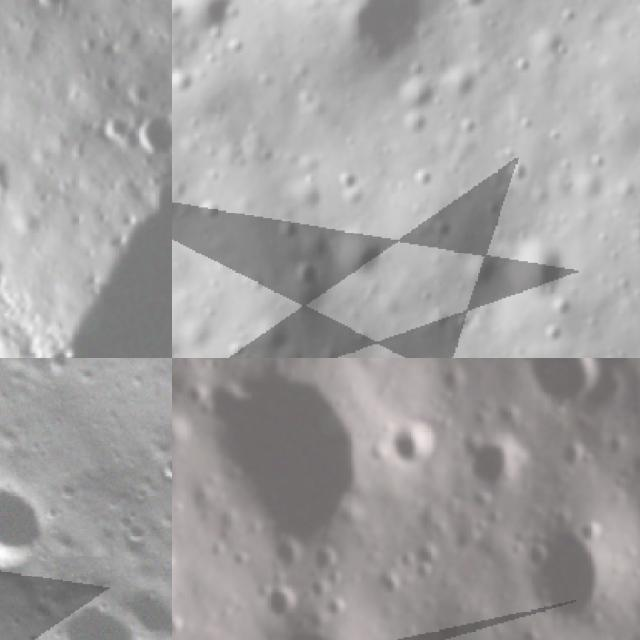crater: (188, 360, 370, 556), (0, 448, 81, 603), (17, 578, 166, 640), (526, 516, 611, 624), (330, 0, 434, 79), (491, 235, 571, 315), (103, 555, 172, 640), (521, 358, 609, 417), (327, 224, 392, 282), (474, 430, 520, 487), (129, 102, 172, 161), (394, 422, 443, 472), (172, 0, 240, 28), (92, 107, 136, 146), (143, 440, 172, 497), (18, 0, 84, 24), (119, 73, 159, 111), (398, 100, 434, 140), (172, 65, 211, 99), (0, 144, 22, 201), (189, 193, 223, 228), (498, 154, 534, 182), (450, 0, 496, 21), (270, 213, 302, 242), (555, 0, 584, 29), (460, 109, 486, 135), (336, 167, 360, 194), (514, 110, 537, 134), (414, 164, 434, 189), (584, 149, 604, 173)
